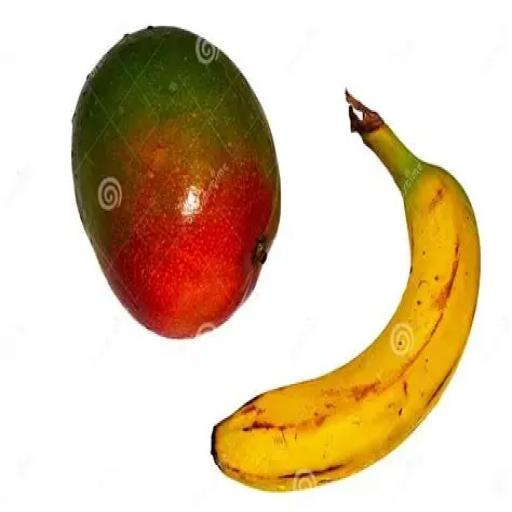banana: (212, 93, 480, 490)
mango: (72, 25, 281, 337)
